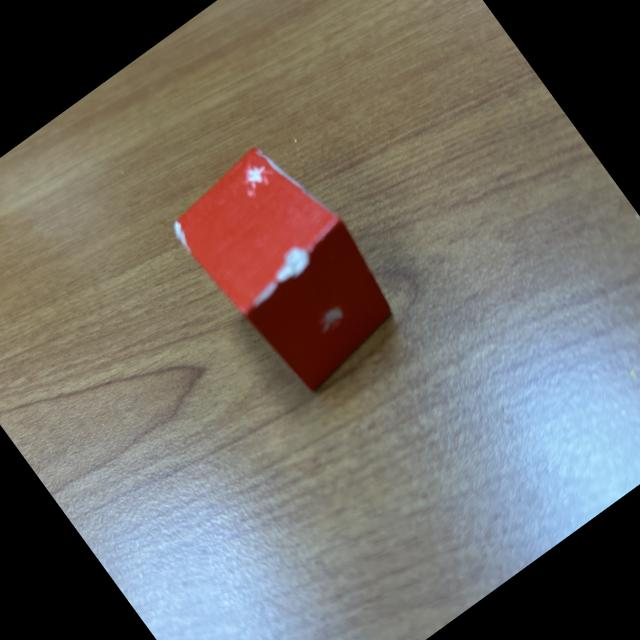broken: (158, 128, 416, 404)
